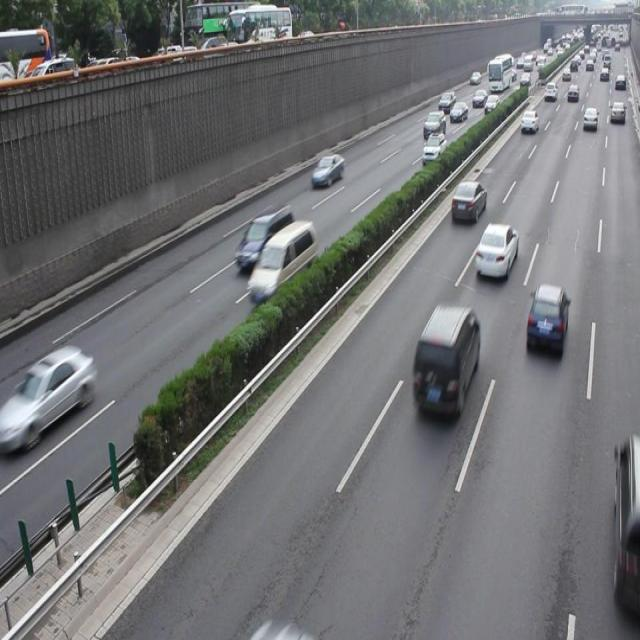car: (0, 342, 94, 441), (610, 436, 640, 615), (524, 283, 567, 355), (473, 221, 518, 279), (449, 178, 486, 224), (311, 152, 344, 188), (422, 132, 446, 164)
truck: (410, 303, 479, 418), (246, 220, 316, 304), (235, 202, 293, 270)
